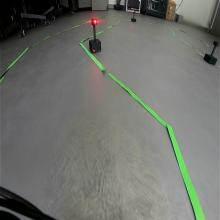red: (91, 17, 97, 26)
